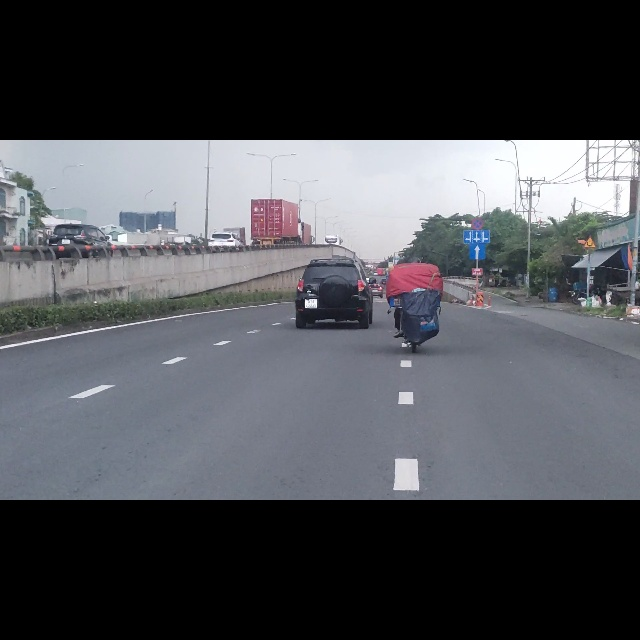bien_nguy_hiem: (469, 184, 486, 213), (471, 137, 484, 159), (584, 170, 596, 191)
